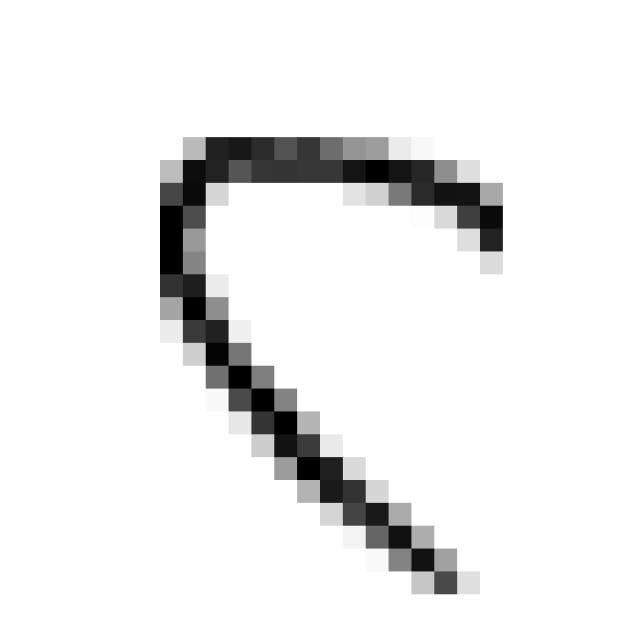2 -two-: (140, 117, 521, 618)
